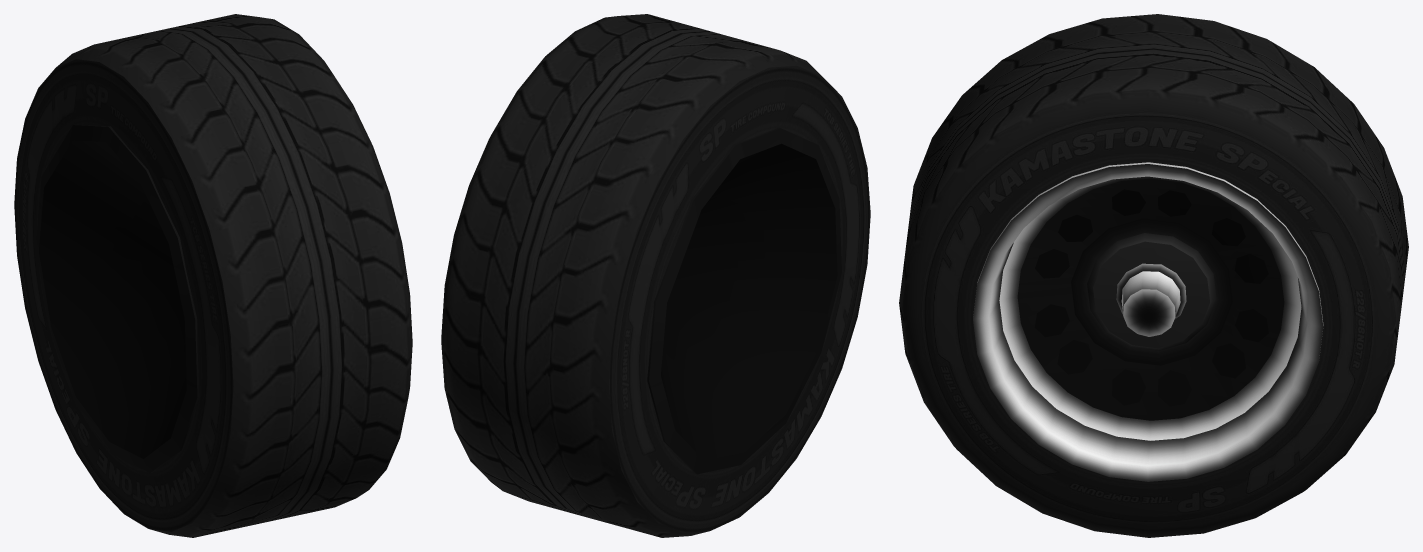
Rendered from shvan92_wheelcustom_fr_rb1c_tire_1k_0.003_lev3.glb.
3 views of the same model, side by side, from view 1: azimuth 30°, elevation 25°; view 2: azimuth 150°, elevation 25°; view 3: azimuth 270°, elevation 25° (orthographic).
Visible parts, largest first — view 1: shvan92_wheelcustom_fr_rb1c_tire_1k_0.003_lev3; view 2: shvan92_wheelcustom_fr_rb1c_tire_1k_0.003_lev3; view 3: shvan92_wheelcustom_fr_rb1c_tire_1k_0.003_lev3.
Part boxes in pixels (x1,y1,x2,y2): shvan92_wheelcustom_fr_rb1c_tire_1k_0.003_lev3: [14, 14, 412, 537]; shvan92_wheelcustom_fr_rb1c_tire_1k_0.003_lev3: [441, 14, 870, 537]; shvan92_wheelcustom_fr_rb1c_tire_1k_0.003_lev3: [899, 14, 1408, 537].
Size of the model in its own units: 0.3396 by 0.7 by 0.7105.
1 material, 1 textured.
